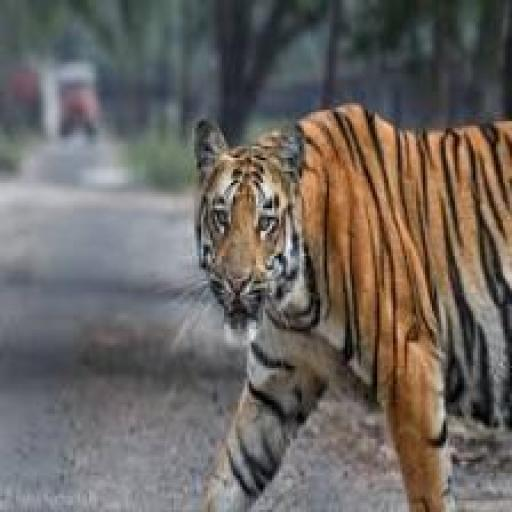Tiger: (178, 91, 510, 512)
